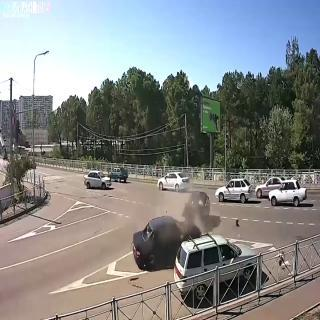Vehicle-Crash_Detected: (132, 200, 229, 261)
